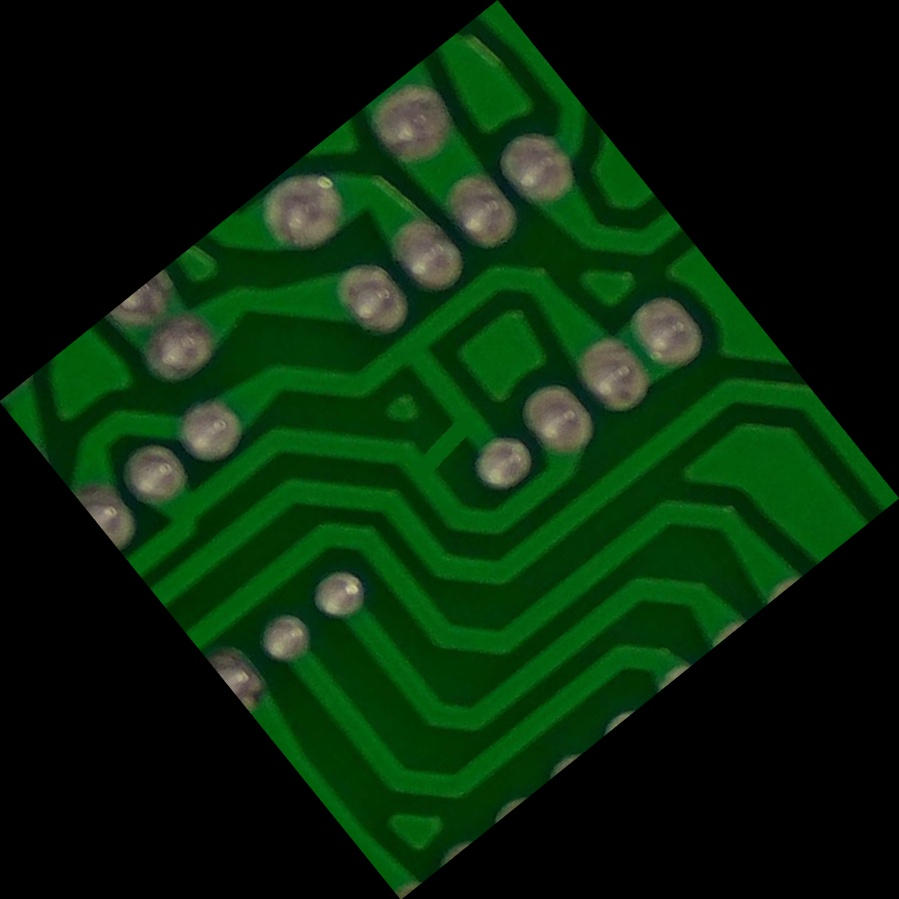short: (377, 378, 522, 521)
